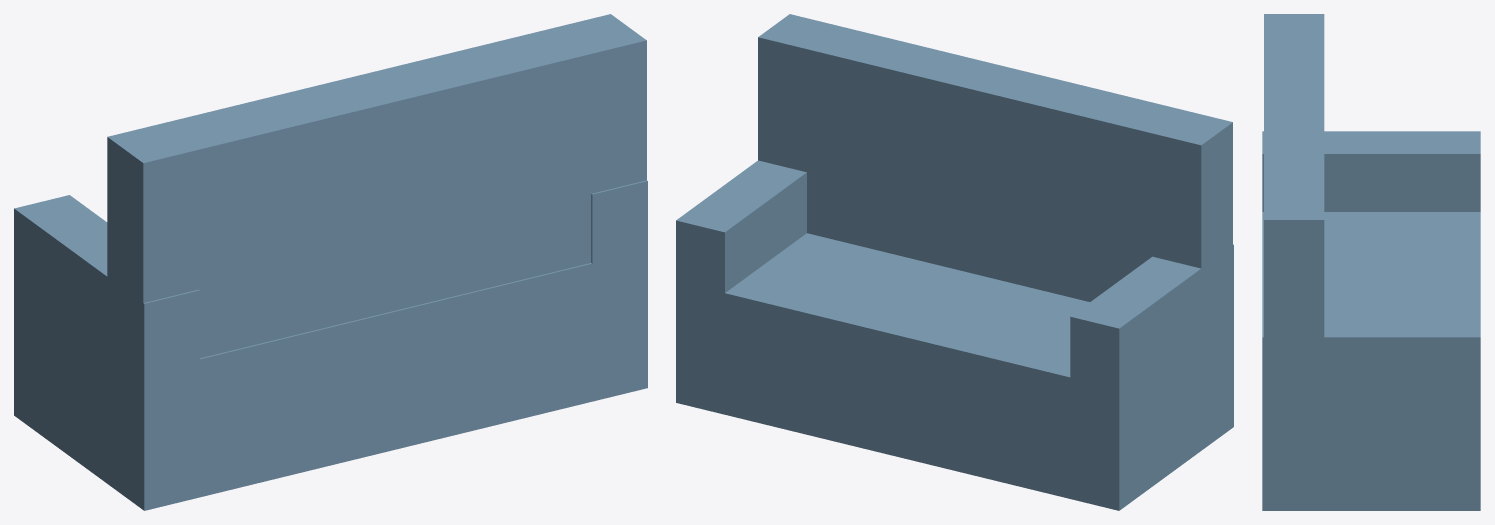
The model's file is couch_01.glb.
3 renders of one model, left to right at view 1: azimuth 30°, elevation 25°; view 2: azimuth 150°, elevation 25°; view 3: azimuth 270°, elevation 25°, orthographic. The views are drawn at different scales.
Visible parts, largest first — view 1: back, base, arm-1, arm1; view 2: back, base, arm-1, arm1; view 3: base, arm1, back, arm-1.
Boxes of the visible parts, x1,y1,x2,y2 form: back: [107, 14, 646, 371]; base: [14, 250, 647, 510]; arm-1: [14, 195, 199, 474]; arm1: [591, 180, 647, 368]; back: [758, 14, 1232, 301]; base: [676, 233, 1233, 510]; arm-1: [1070, 244, 1233, 481]; arm1: [676, 160, 806, 385]; base: [1262, 212, 1480, 510]; arm1: [1262, 314, 1480, 483]; back: [1264, 14, 1324, 417]; arm-1: [1262, 131, 1480, 211].
Bounding box in the file's own units: 1.45 × 0.955 × 0.65.
